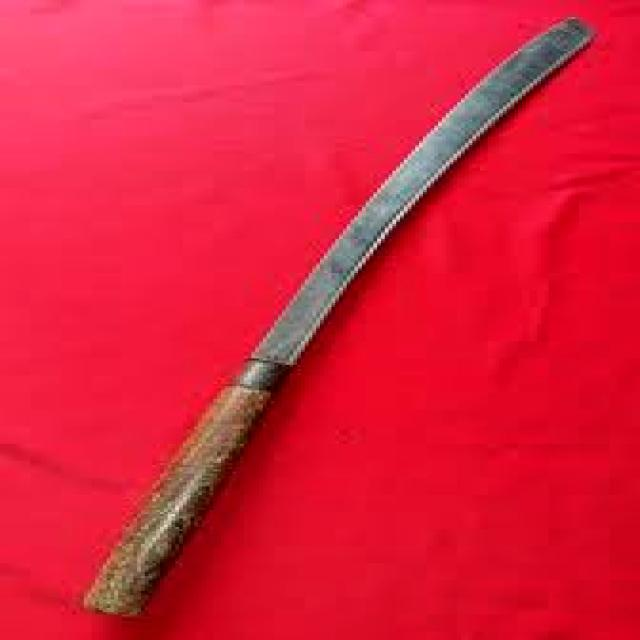long sword: (73, 18, 611, 618)
